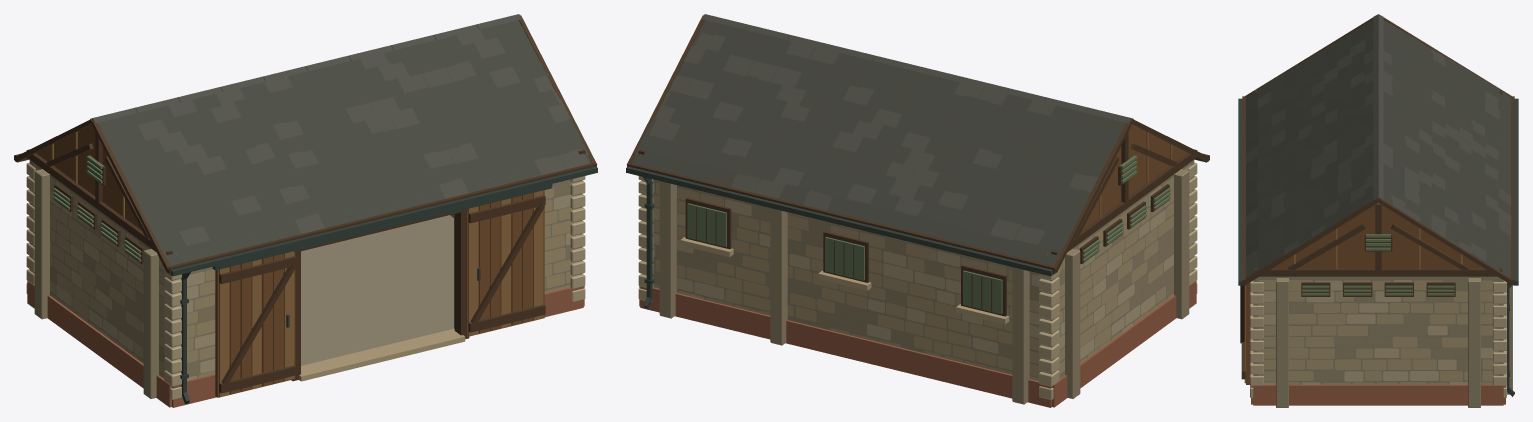
The model's file is lwf_large_barn_v1.glb.
The picture shows the model from 3 angles, left to right: view 1: azimuth 30°, elevation 25°; view 2: azimuth 150°, elevation 25°; view 3: azimuth 270°, elevation 25°; orthographic projection. The views are drawn at different scales.
Parts seen in each view (by area): view 1: LWF_LargeBarn_Shell, LWF_LargeBarn_Roof; view 2: LWF_LargeBarn_Shell, LWF_LargeBarn_Roof; view 3: LWF_LargeBarn_Roof, LWF_LargeBarn_Shell.
Part boxes in pixels (x1,y1,x2,y2): LWF_LargeBarn_Shell: (26,124,585,407); LWF_LargeBarn_Roof: (14,14,597,276); LWF_LargeBarn_Shell: (638,124,1197,407); LWF_LargeBarn_Roof: (626,14,1209,276); LWF_LargeBarn_Roof: (1238,14,1518,285); LWF_LargeBarn_Shell: (1240,90,1514,407).
Size of the model in its own units: 20.93 by 11.13 by 13.41.
1 material, 1 textured.
